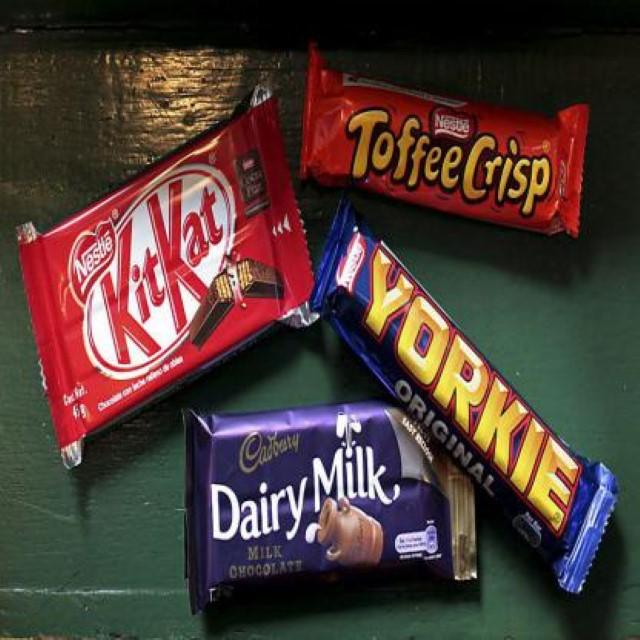cadbury_chocolate: (193, 403, 497, 572)
kitkat_chocolate: (61, 107, 272, 438)
